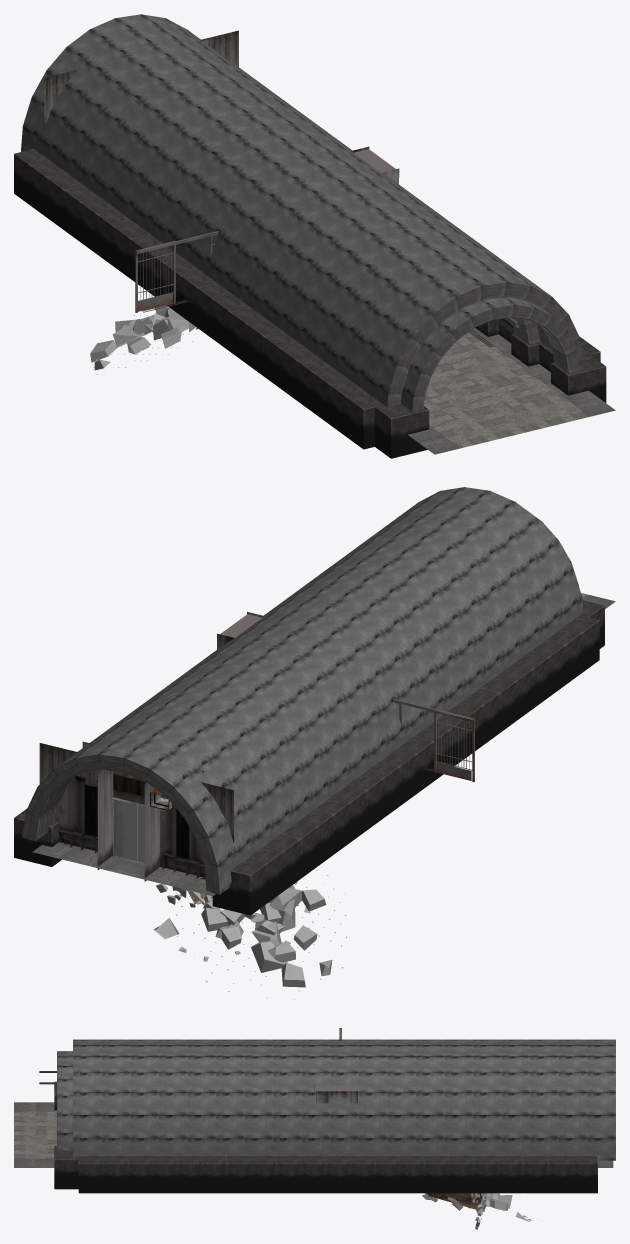
File: ALL Section 1.fbx
3 renders of one model, top to bottom at view 1: azimuth 30°, elevation 25°; view 2: azimuth 150°, elevation 25°; view 3: azimuth 270°, elevation 25°, orthographic. The views are drawn at different scales.
Visible parts, largest first — view 1: LeakingWall2, secondwalls1, AllFloor, Rocks2, Fence2, RightSideUVAdjusted, TopTicketBooth; view 2: LeakingWall2, secondwalls1, RightSideUVAdjusted, Rocks2, AllFloor, Fence2, LiftDoors1, TopSideUVAdjusted; view 3: LeakingWall2, secondwalls1, AllFloor, TopTicketBooth, Rocks2, SinkHoleAfter1.
Boxes of the visible parts, x1,y1,x2,y2 form: LeakingWall2: [21, 14, 583, 411]; secondwalls1: [14, 149, 606, 458]; AllFloor: [408, 328, 615, 454]; Rocks2: [90, 305, 202, 374]; Fence2: [135, 231, 218, 312]; RightSideUVAdjusted: [44, 30, 238, 130]; TopTicketBooth: [351, 146, 399, 184]; LeakingWall2: [22, 487, 583, 894]; secondwalls1: [14, 600, 604, 915]; RightSideUVAdjusted: [39, 743, 233, 881]; Rocks2: [153, 870, 347, 999]; AllFloor: [32, 593, 615, 896]; Fence2: [393, 699, 475, 782]; LiftDoors1: [113, 799, 144, 862]; TopSideUVAdjusted: [82, 741, 203, 811]; LeakingWall2: [57, 1039, 615, 1160]; secondwalls1: [54, 1081, 597, 1193]; AllFloor: [14, 1102, 613, 1167]; TopTicketBooth: [314, 1085, 359, 1103]; Rocks2: [468, 1193, 541, 1229]; SinkHoleAfter1: [427, 1193, 484, 1211].
Size of the model in its own units: 1114 by 990 by 2713.
